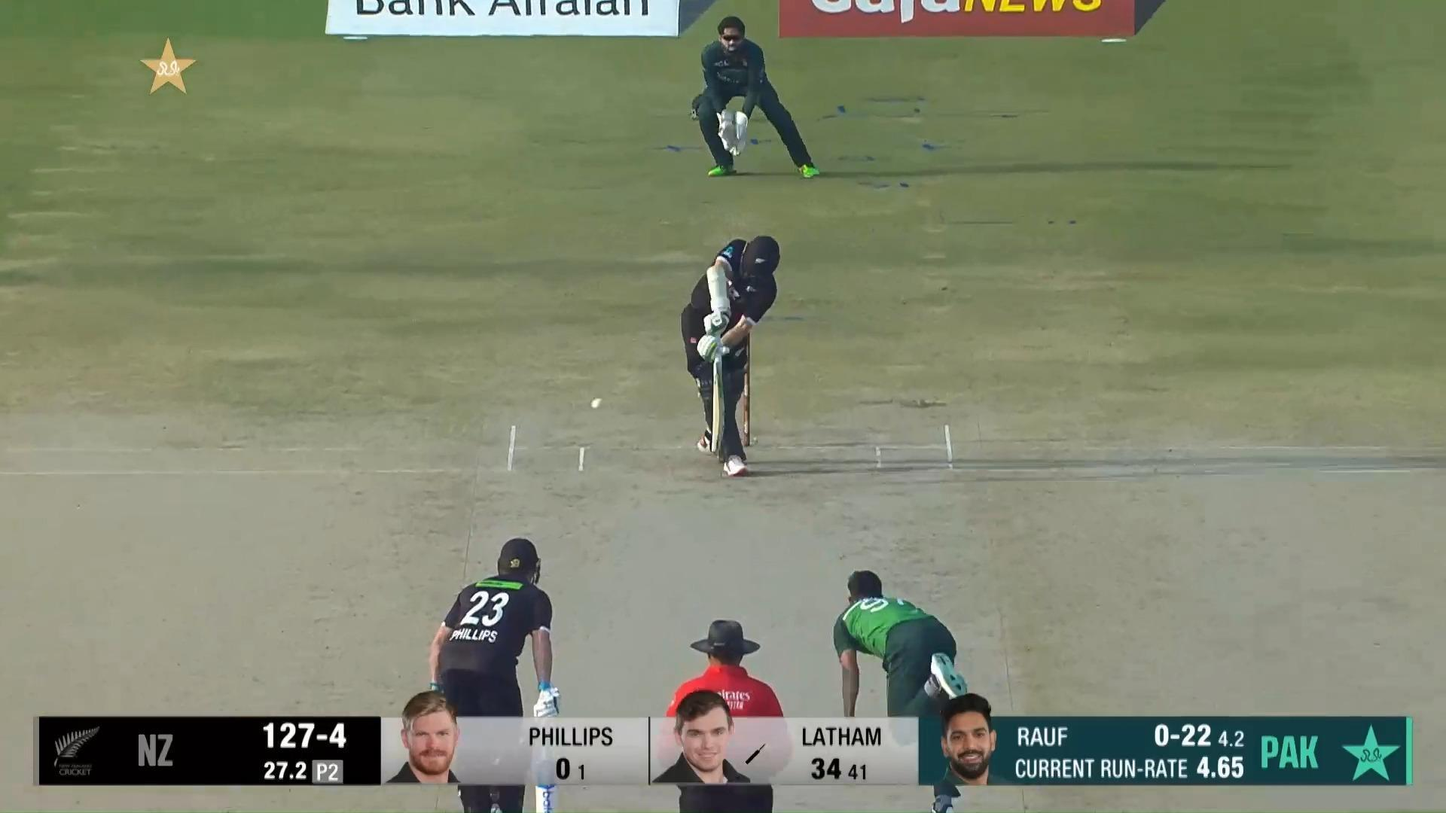BM 1: (681, 235, 781, 476)
BO: (831, 567, 968, 813)
